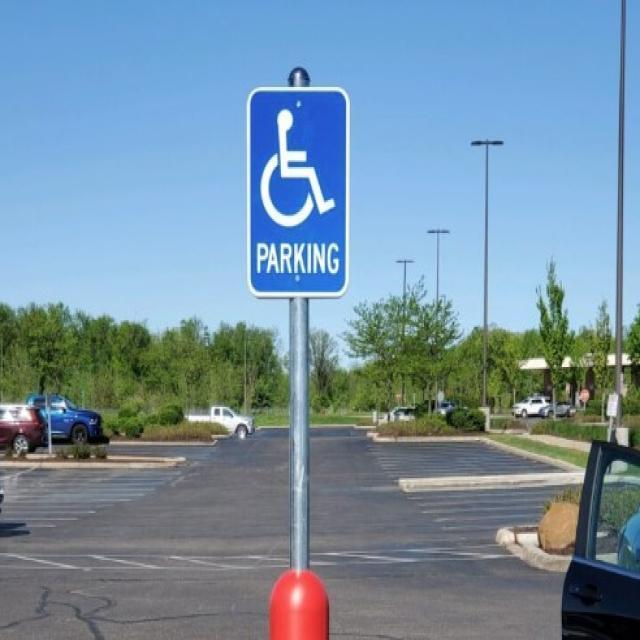symbol_of_access: (244, 85, 350, 300)
